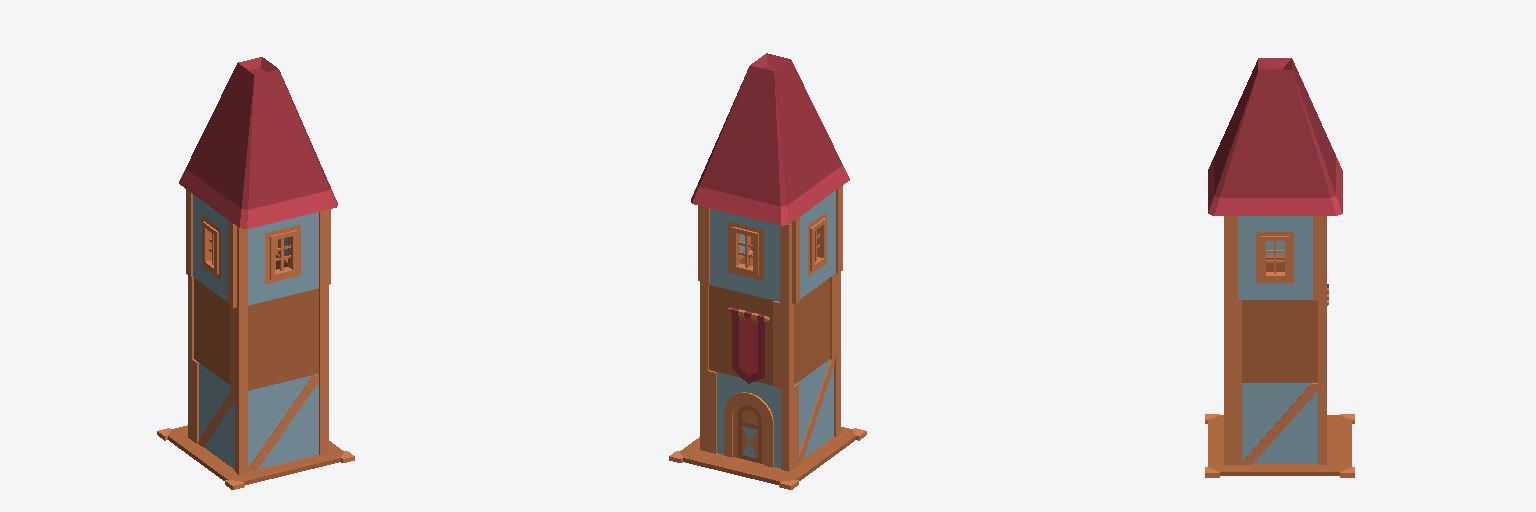
File: turn.obj
3 renders of one model, left to right at view 1: azimuth 30°, elevation 25°; view 2: azimuth 150°, elevation 25°; view 3: azimuth 270°, elevation 25°, orthographic.
Bounding box in the file's own units: 1.5 × 4.5 × 1.6.